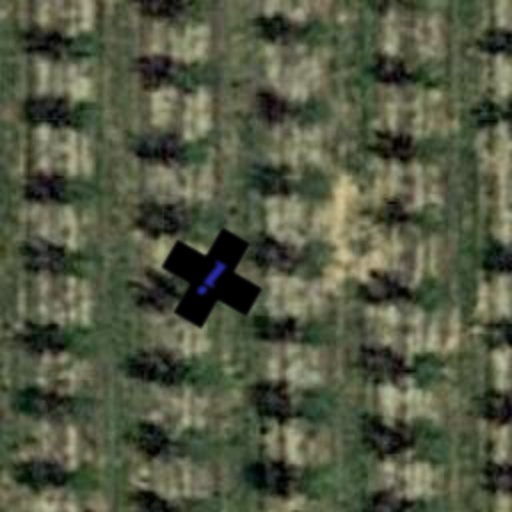cross: (144, 210, 280, 346)
